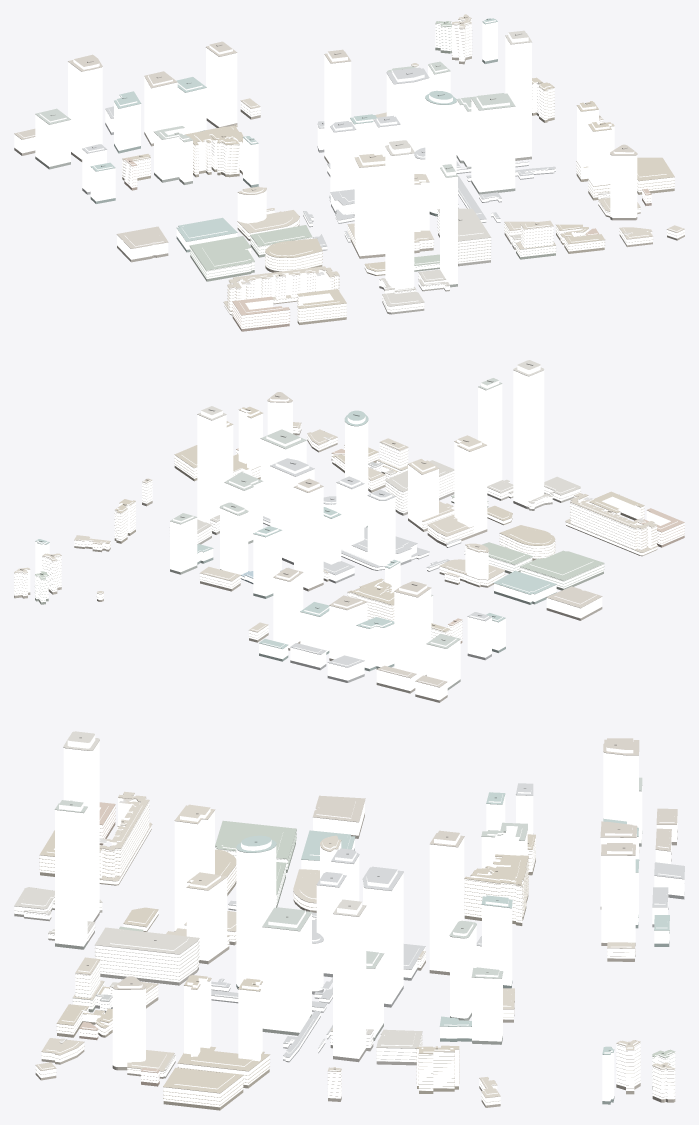
Rendered from buildings--9_-2-fine.glb.
The picture shows the model from 3 angles, top to bottom: view 1: azimuth 30°, elevation 25°; view 2: azimuth 150°, elevation 25°; view 3: azimuth 270°, elevation 25°; orthographic projection. The views are drawn at different scales.
Visible parts, largest first — view 1: block_-9_-2_office, block_-9_-2_roof, block_-9_-2_residential, block_-9_-2_darkglass, block_-9_-2_concrete, block_-9_-2_steel; view 2: block_-9_-2_office, block_-9_-2_roof, block_-9_-2_residential, block_-9_-2_darkglass, block_-9_-2_concrete, block_-9_-2_steel; view 3: block_-9_-2_office, block_-9_-2_roof, block_-9_-2_residential, block_-9_-2_darkglass, block_-9_-2_concrete, block_-9_-2_steel.
Part boxes in pixels (box(x1,y1,x2,y2)): block_-9_-2_office: box(14, 20, 637, 290); block_-9_-2_roof: box(14, 14, 684, 328); block_-9_-2_residential: box(122, 18, 684, 328); block_-9_-2_darkglass: box(14, 47, 684, 331); block_-9_-2_concrete: box(122, 18, 684, 327); block_-9_-2_steel: box(15, 21, 637, 248); block_-9_-2_office: box(35, 365, 602, 700); block_-9_-2_roof: box(14, 360, 684, 687); block_-9_-2_residential: box(14, 423, 684, 640); block_-9_-2_darkglass: box(14, 429, 684, 702); block_-9_-2_concrete: box(14, 427, 684, 636); block_-9_-2_steel: box(35, 370, 602, 687); block_-9_-2_office: box(55, 735, 684, 1101); block_-9_-2_roof: box(14, 731, 684, 1107); block_-9_-2_residential: box(14, 794, 675, 1107); block_-9_-2_darkglass: box(14, 814, 684, 1110); block_-9_-2_concrete: box(14, 793, 674, 1105); block_-9_-2_steel: box(55, 740, 684, 1054).
Bounding box in the file's own units: 690 × 196 × 657.
